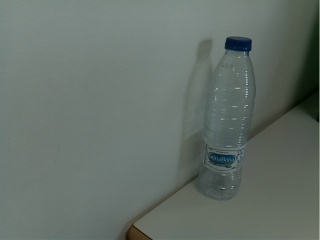botella plastico: (193, 35, 260, 202)
